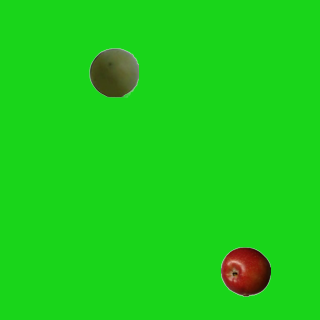Apple Braeburn: (220, 246, 270, 296)
Grape White 4: (88, 47, 138, 97)
